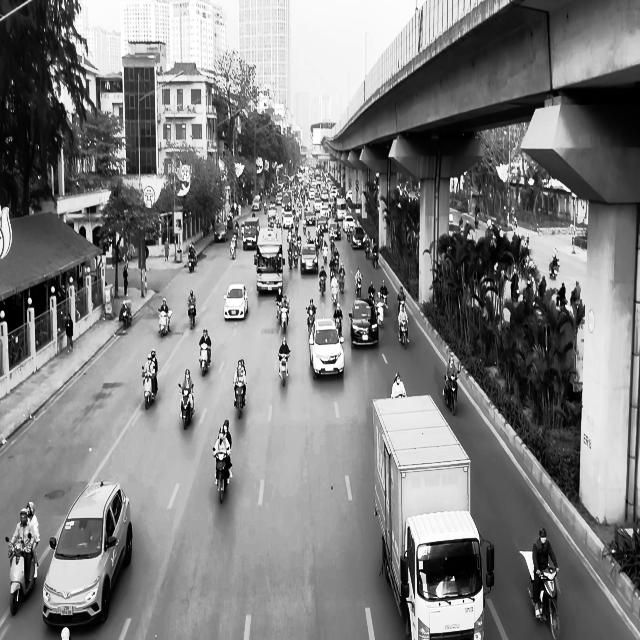car: (41, 480, 132, 629), (309, 317, 344, 378), (348, 298, 379, 347), (223, 283, 248, 320)
motorbike: (5, 534, 39, 616), (527, 566, 560, 639), (213, 447, 231, 504), (178, 382, 194, 429), (443, 370, 459, 415), (142, 366, 158, 409), (233, 382, 246, 418), (198, 342, 210, 376), (278, 351, 289, 386), (157, 308, 170, 337), (398, 316, 409, 348), (120, 300, 132, 328), (188, 306, 196, 329)
truck: (372, 393, 494, 639)
